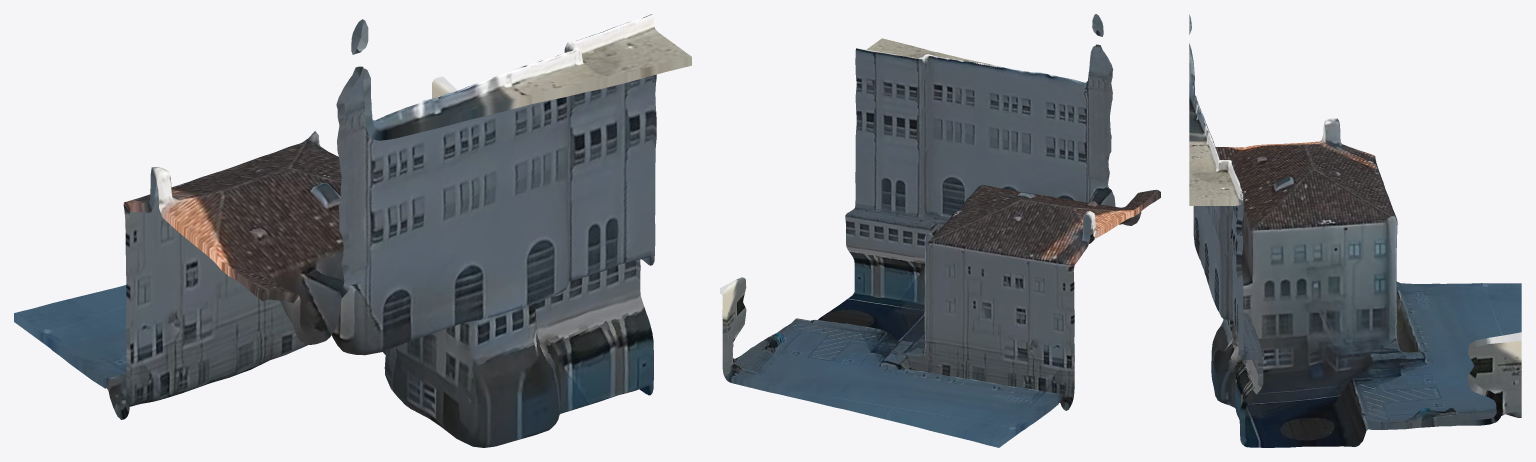
Rendered from z20-167741-405198-h0-yup-uvflip-v3-world.glb.
3 renders of one model, left to right at view 1: azimuth 30°, elevation 25°; view 2: azimuth 150°, elevation 25°; view 3: azimuth 270°, elevation 25°, orthographic. The views are drawn at different scales.
Size of the model in its own units: 30.16 by 32.88 by 30.32.
1 material, 1 textured.
